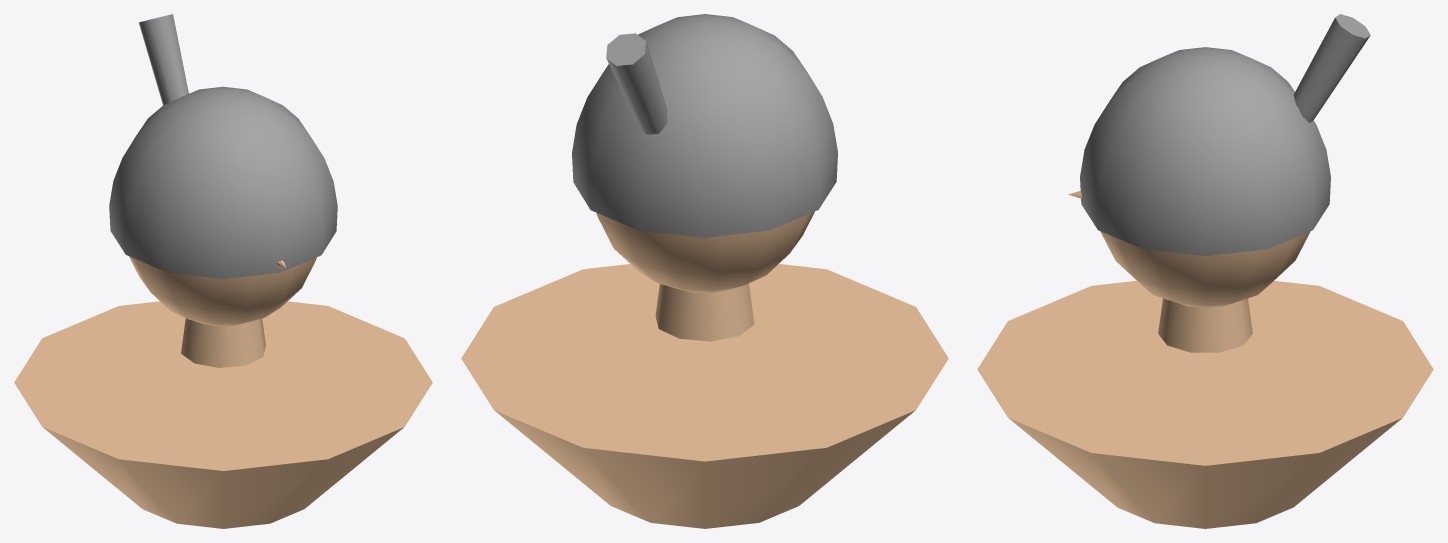
Rendered from raw_002.glb.
3 renders of one model, left to right at view 1: azimuth 30°, elevation 25°; view 2: azimuth 150°, elevation 25°; view 3: azimuth 270°, elevation 25°, orthographic. The views are drawn at different scales.
Size of the model in its own units: 2.02 by 2.29 by 2.02.
